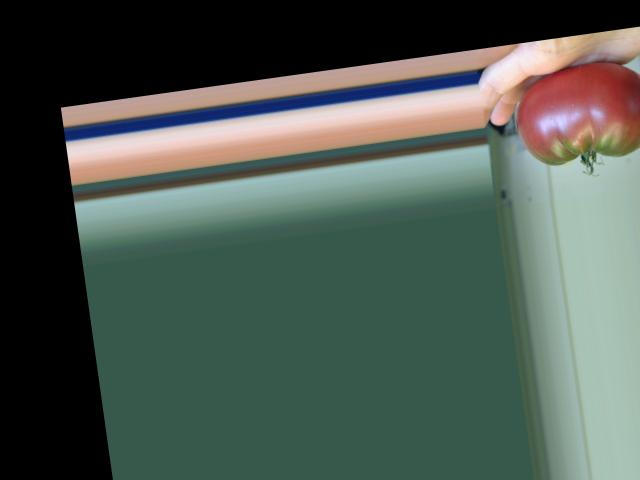tomato: (510, 54, 640, 170)
